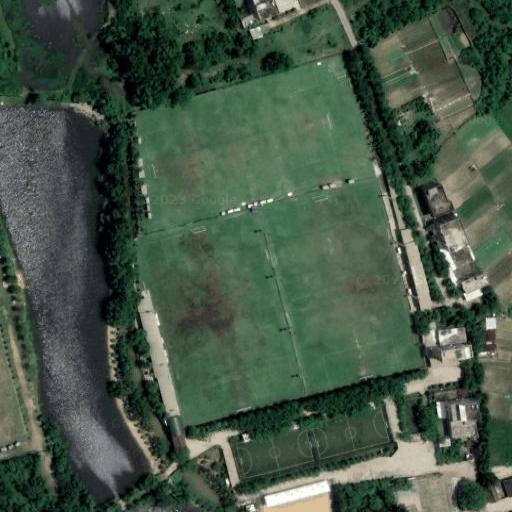building: (136, 292, 180, 416), (393, 223, 431, 310), (258, 474, 330, 507), (422, 181, 456, 219), (250, 0, 300, 24), (214, 440, 237, 488), (440, 219, 470, 254), (375, 391, 399, 434), (451, 418, 483, 439), (460, 273, 489, 295), (442, 346, 475, 364), (437, 327, 466, 347), (483, 318, 497, 352), (487, 480, 508, 502), (437, 390, 466, 402), (465, 404, 481, 420), (248, 26, 264, 41), (465, 289, 483, 302), (502, 476, 512, 497), (437, 402, 445, 417)
